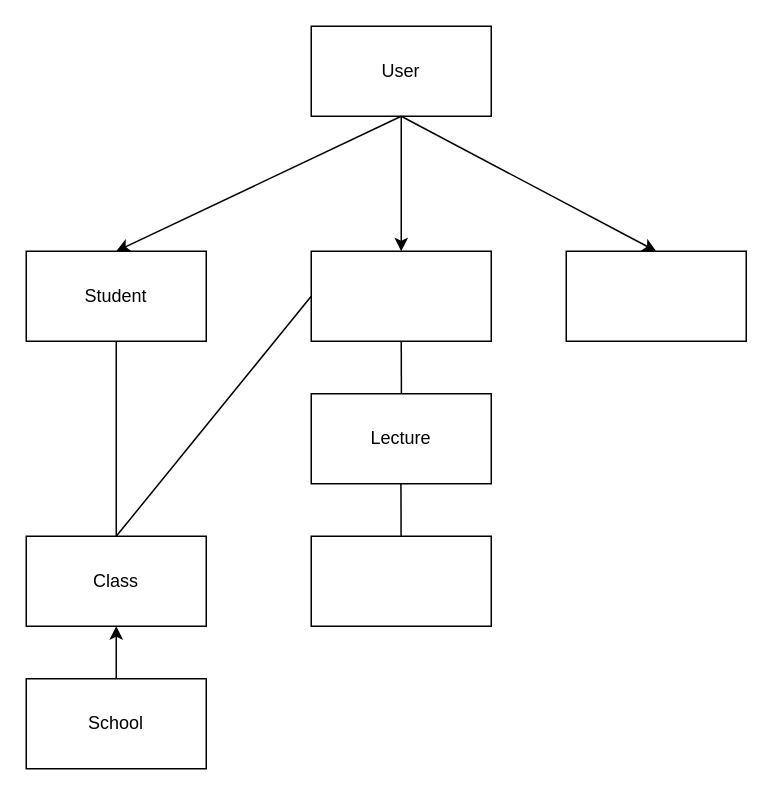
Image size: 773x795. Some labels were removed from this diagram. Here are the shapes that lost their labels. From the top down, the box of each, then its label:
(310, 250, 491, 341): Teacher
(565, 250, 746, 341): Admin
(310, 535, 491, 626): Task
